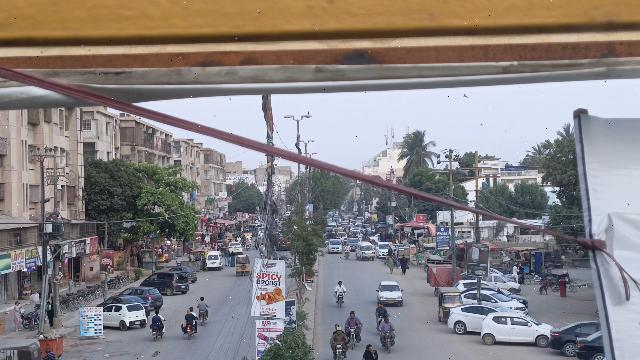Bike: (379, 329, 399, 354), (344, 327, 361, 350), (331, 341, 349, 360), (182, 322, 198, 340), (150, 324, 165, 341), (198, 308, 209, 327), (335, 291, 347, 308)
Car: (480, 310, 552, 347), (447, 303, 519, 335), (549, 320, 599, 358), (102, 303, 148, 332), (138, 271, 191, 296), (119, 284, 164, 310), (574, 330, 604, 360), (375, 280, 404, 308)
Person: (11, 300, 24, 331), (344, 305, 360, 327), (331, 323, 348, 343), (378, 314, 396, 331), (333, 279, 348, 295), (197, 295, 209, 313), (42, 346, 56, 360), (152, 309, 162, 326), (183, 308, 194, 322)
Rickshaw: (434, 285, 461, 324), (235, 252, 251, 277)
Van: (354, 240, 376, 262), (204, 251, 224, 272)
